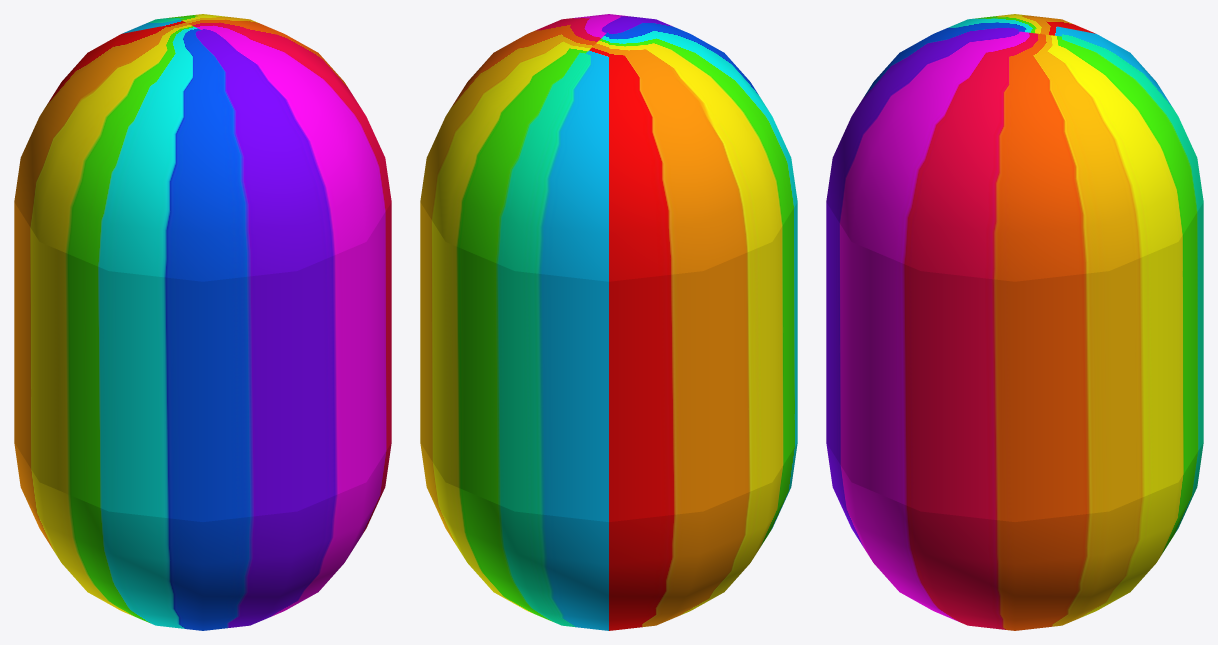
The picture shows the model from 3 angles, left to right: view 1: azimuth 30°, elevation 25°; view 2: azimuth 150°, elevation 25°; view 3: azimuth 270°, elevation 25°; orthographic projection.
Visible parts, largest first — view 1: middle, start, end; view 2: middle, start, end; view 3: middle, start, end.
Part boxes in pixels (x1=…): middle: x1=14, y1=202, x2=391, y2=521; start: x1=14, y1=14, x2=391, y2=281; end: x1=14, y1=443, x2=391, y2=630; middle: x1=420, y1=202, x2=797, y2=521; start: x1=420, y1=14, x2=797, y2=281; end: x1=420, y1=443, x2=797, y2=630; middle: x1=826, y1=202, x2=1203, y2=521; start: x1=826, y1=14, x2=1203, y2=281; end: x1=826, y1=443, x2=1203, y2=630.
Size of the model in its own units: 0.4754 by 0.8103 by 0.4754.
